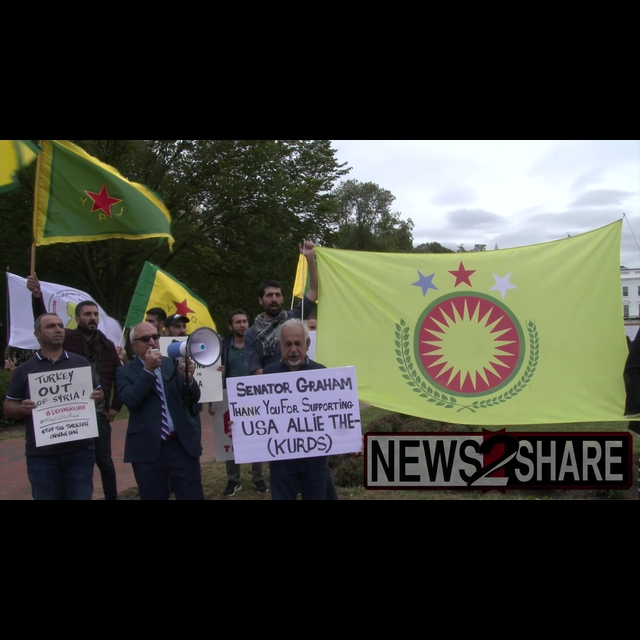YPJ: (78, 178, 127, 223)
